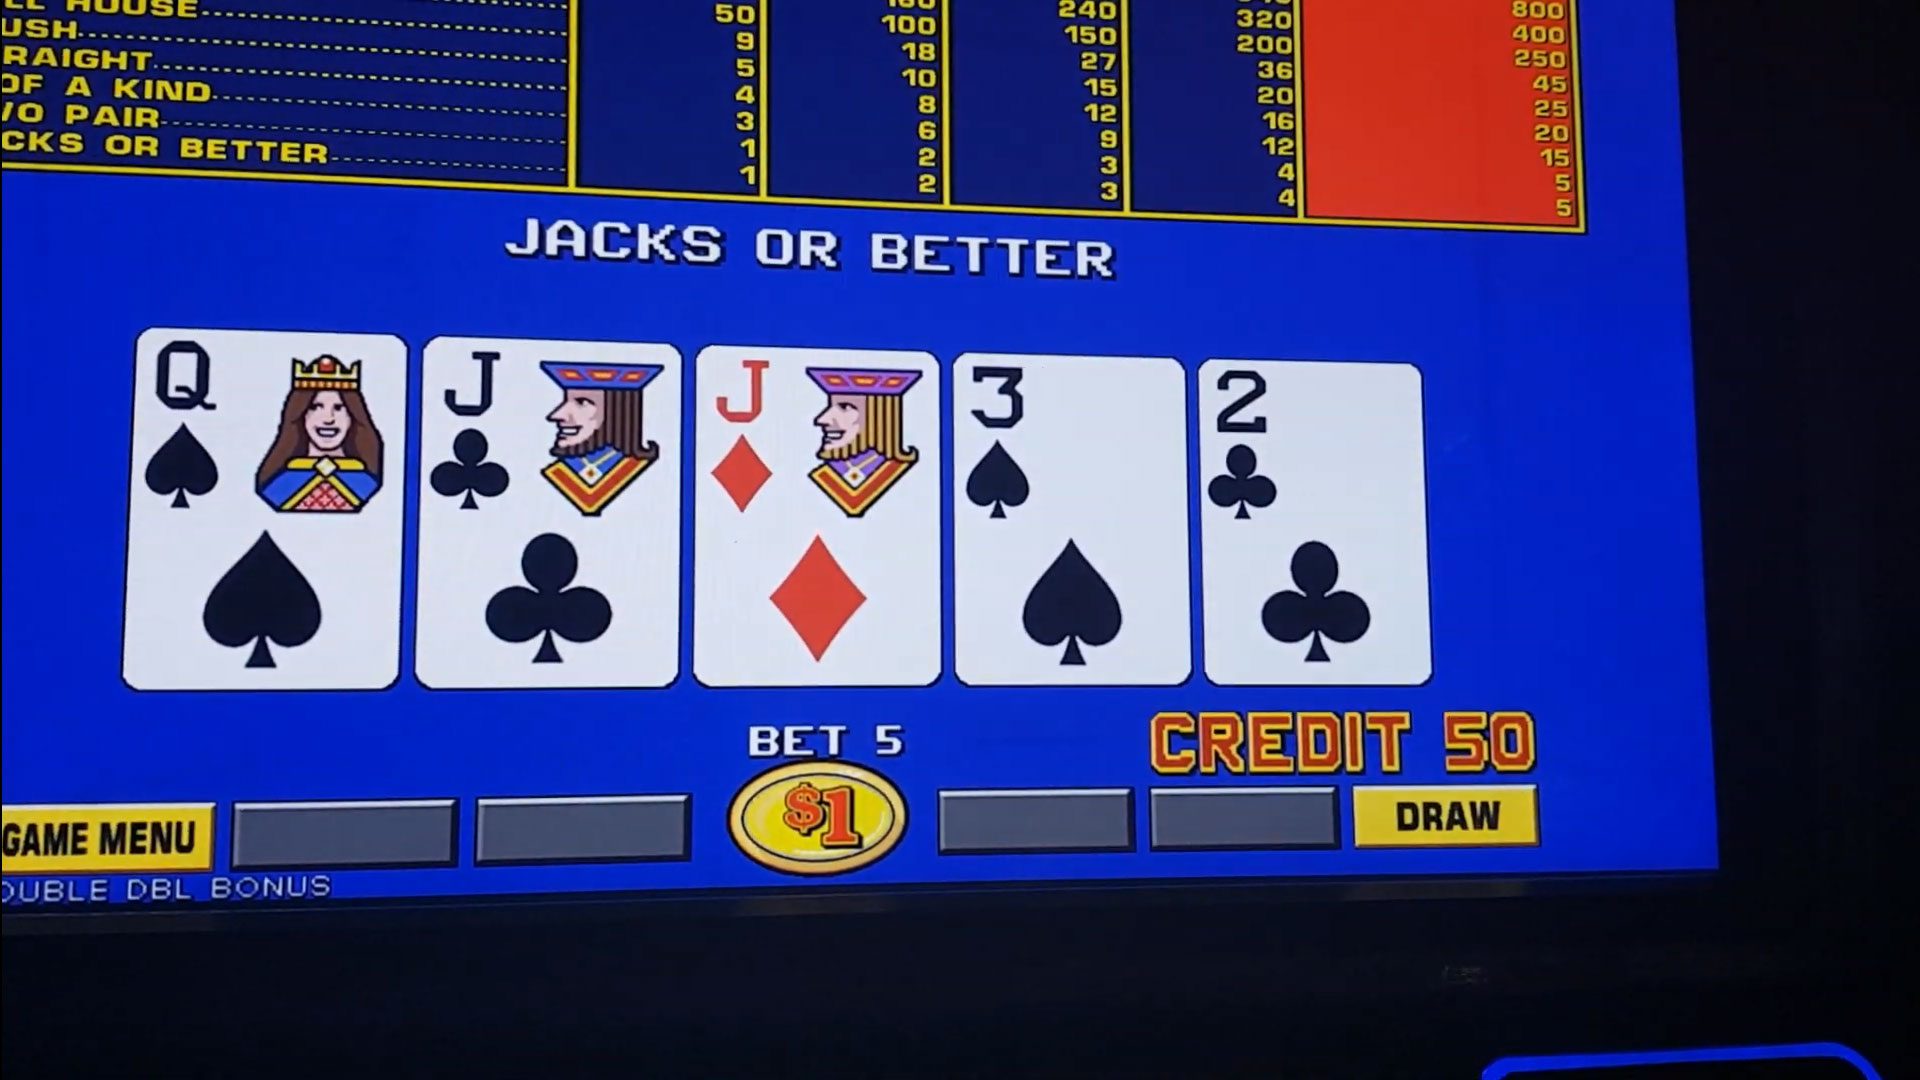C2: (1208, 364, 1422, 526)
CJ: (427, 344, 675, 518)
DJ: (703, 355, 936, 525)
S3: (963, 357, 1185, 525)
SQ: (142, 334, 398, 521)
